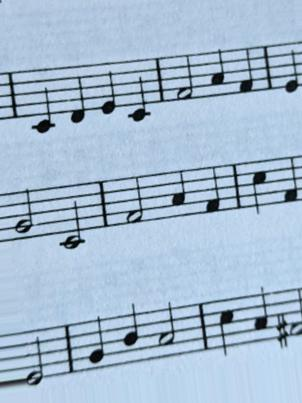A: (167, 164, 192, 223), (250, 284, 270, 344), (208, 48, 228, 100)
B: (119, 299, 144, 369)
D: (67, 62, 90, 126)
E: (96, 57, 119, 119), (281, 38, 300, 98)
F: (202, 161, 226, 217), (278, 152, 301, 207), (235, 47, 259, 98)
G: (84, 308, 111, 377)
HC: (215, 293, 240, 360)
LC: (28, 66, 60, 137), (122, 58, 154, 126)
